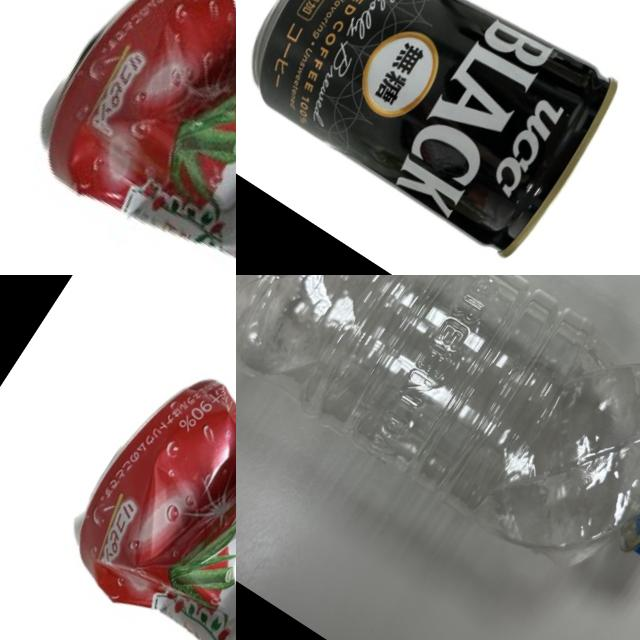Can: (236, 0, 631, 268), (49, 288, 236, 640), (14, 0, 236, 275)
Transparent Plastic Bottle: (236, 275, 640, 632)
